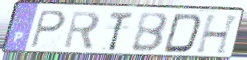B: (130, 12, 170, 54)
D: (161, 13, 204, 55)
H: (194, 14, 241, 56)
P: (29, 9, 67, 50)
R: (62, 9, 102, 52)
T: (107, 11, 135, 53)
